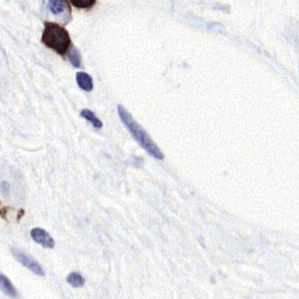Lymphocyte: (41, 18, 73, 60)
